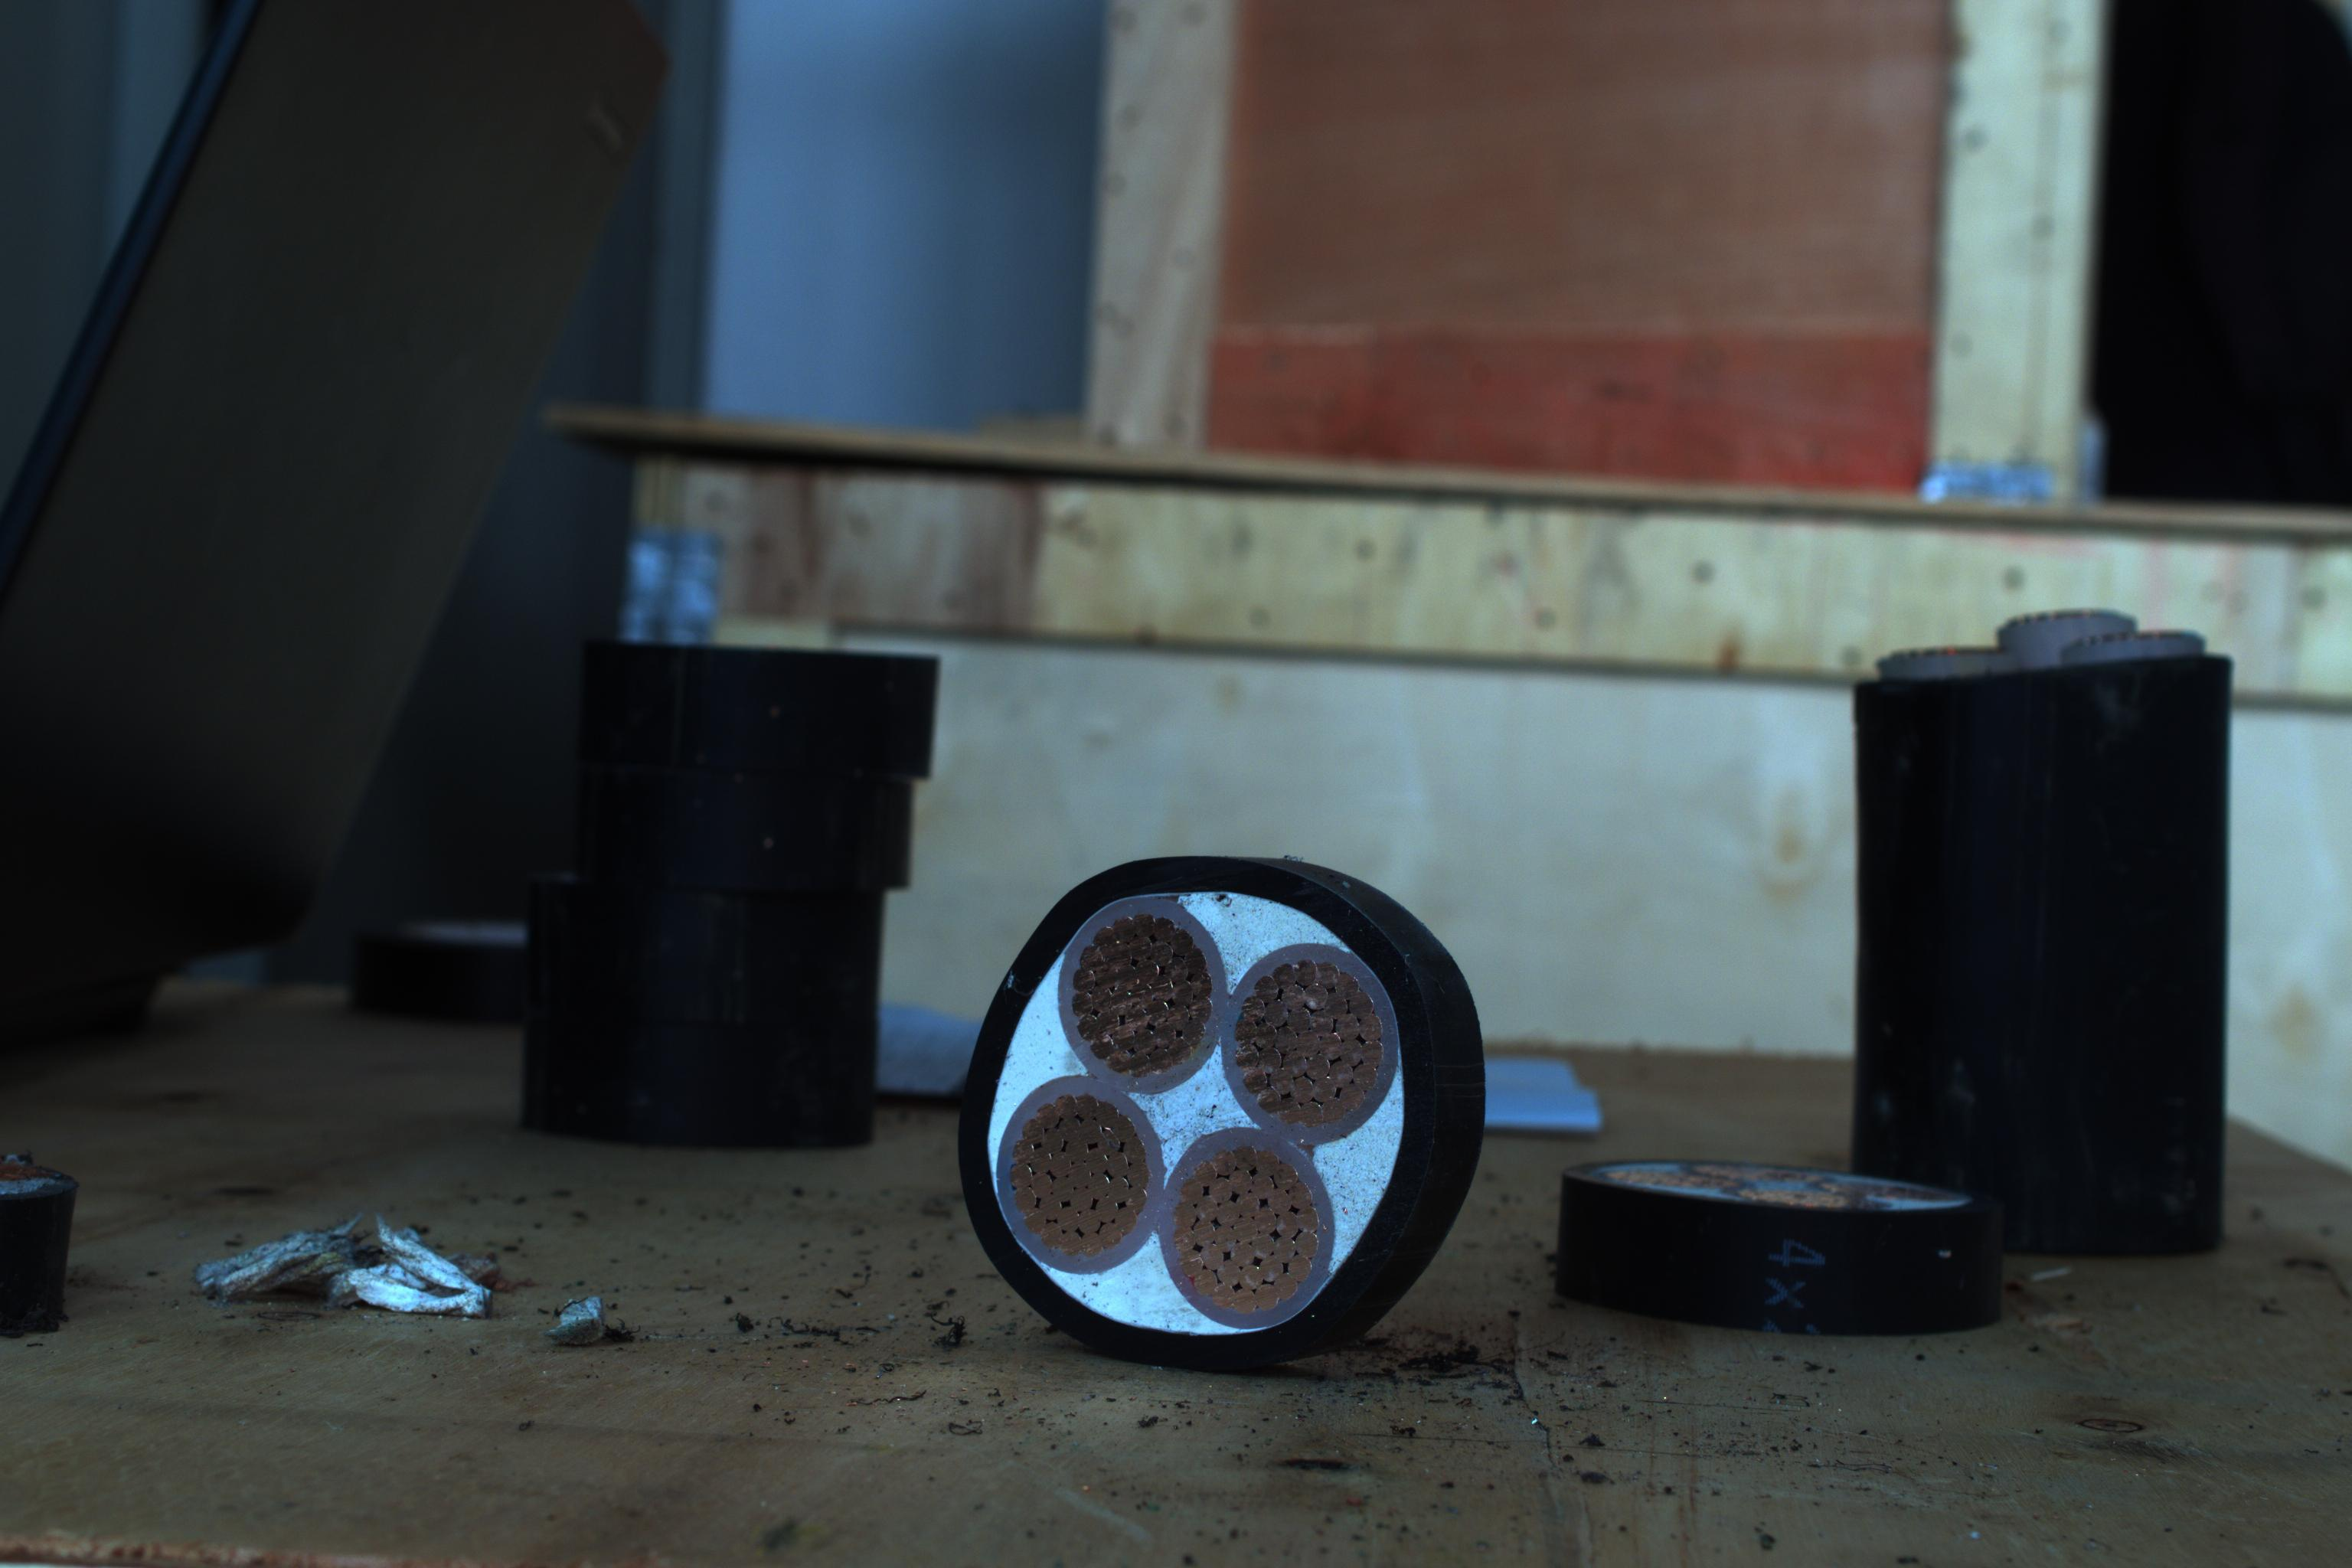YJV_0.6_1kV_4x240: (959, 857, 1431, 1347)
